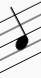note: (5, 4, 31, 66)
